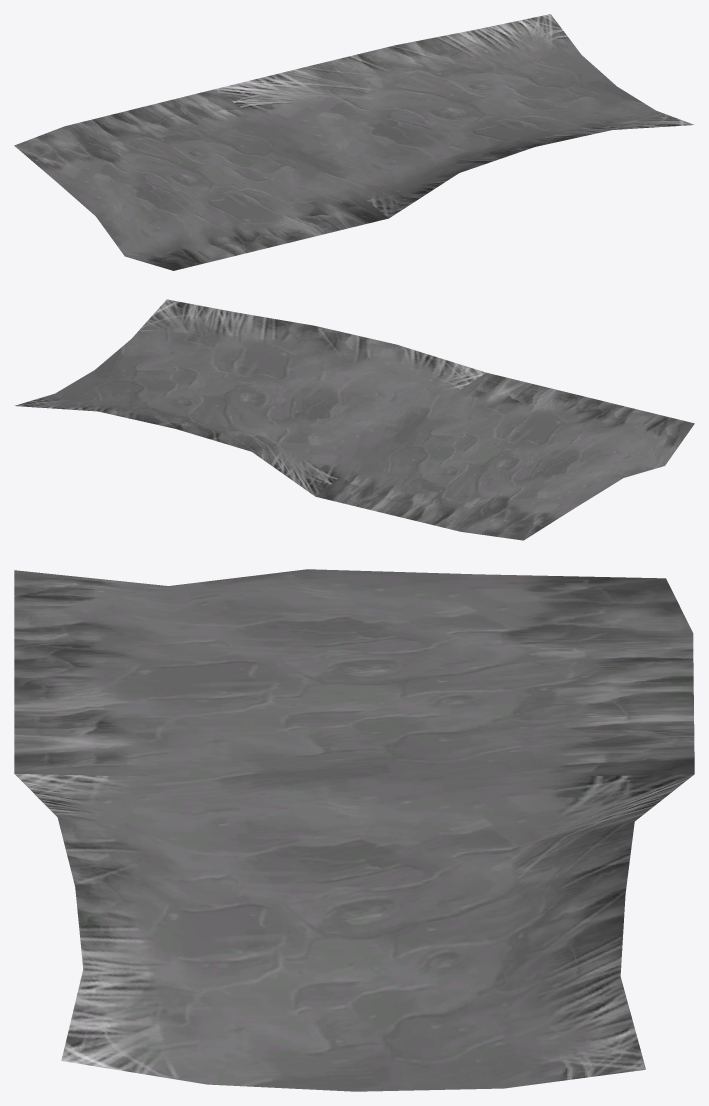
Rendered from SWORDLIGHT20_PS-AREA01_18.fbx.
The picture shows the model from 3 angles, top to bottom: view 1: azimuth 30°, elevation 25°; view 2: azimuth 150°, elevation 25°; view 3: azimuth 270°, elevation 25°; orthographic projection. The views are drawn at different scales.
Visible parts, largest first — view 1: SWORDLIGHT20_PS-AREA01_18; view 2: SWORDLIGHT20_PS-AREA01_18; view 3: SWORDLIGHT20_PS-AREA01_18.
Part boxes in pixels (x1=…): SWORDLIGHT20_PS-AREA01_18: x1=14, y1=14, x2=694, y2=270; SWORDLIGHT20_PS-AREA01_18: x1=15, y1=299, x2=694, y2=540; SWORDLIGHT20_PS-AREA01_18: x1=14, y1=569, x2=694, y2=1091.
Bounding box in the file's own units: 124542 × 7141 × 69032.
Materials: 2 (2 with a texture image).
